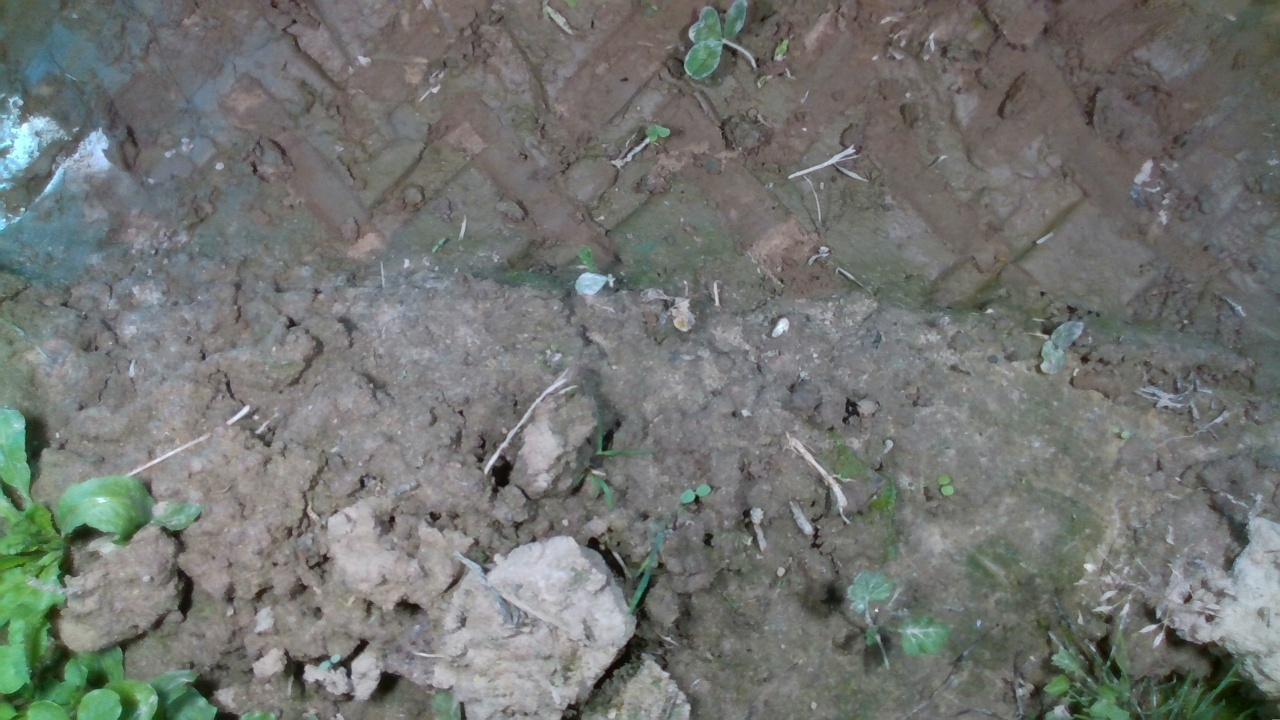weed: (677, 482, 713, 505), (936, 474, 955, 498)
